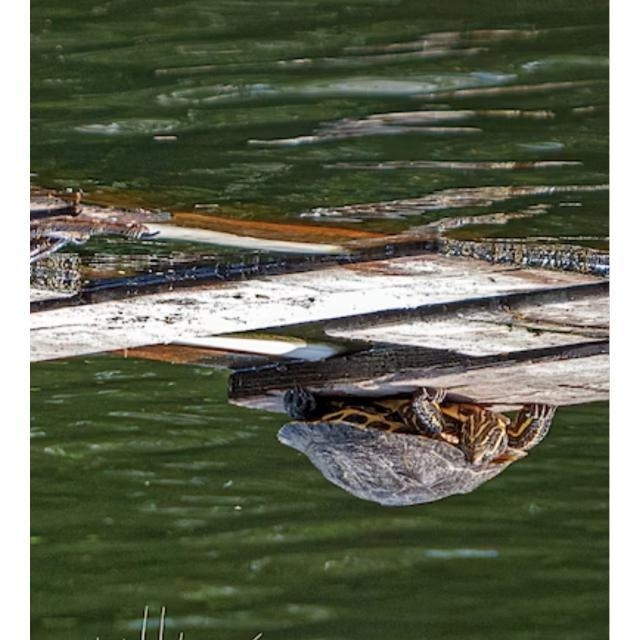turtle: (281, 381, 557, 507)
